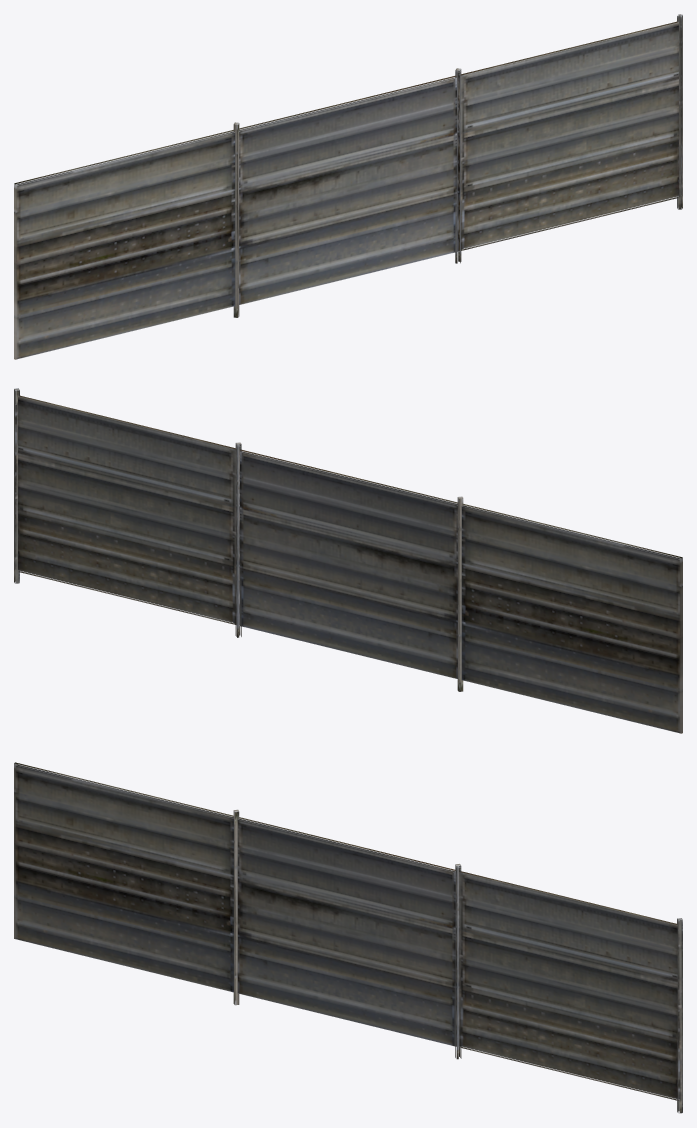
The model's file is Fence03Long.obj.
The picture shows the model from 3 angles, top to bottom: view 1: azimuth 30°, elevation 25°; view 2: azimuth 150°, elevation 25°; view 3: azimuth 330°, elevation 25°; orthographic projection.
Visible parts, largest first — view 1: Fence03, Fence03Pole03, Fence03Pole02, Fence03Pole01; view 2: Fence03, Fence03Pole03, Fence03Pole02, Fence03Pole01; view 3: Fence03, Fence03Pole01, Fence03Pole02, Fence03Pole03.
Boxes of the visible parts, box(x1,y1,x2,y2) form: Fence03: box(14, 21, 678, 359); Fence03Pole03: box(233, 122, 239, 317); Fence03Pole02: box(455, 68, 461, 263); Fence03Pole01: box(677, 14, 682, 209); Fence03: box(18, 395, 682, 733); Fence03Pole03: box(457, 496, 463, 691); Fence03Pole02: box(235, 442, 241, 637); Fence03Pole01: box(14, 388, 19, 583); Fence03: box(14, 762, 679, 1101); Fence03Pole01: box(677, 918, 682, 1113); Fence03Pole02: box(455, 863, 461, 1059); Fence03Pole03: box(233, 809, 239, 1005).
Bounding box in the file's own units: 12.05 × 3.33 × 0.1061.
